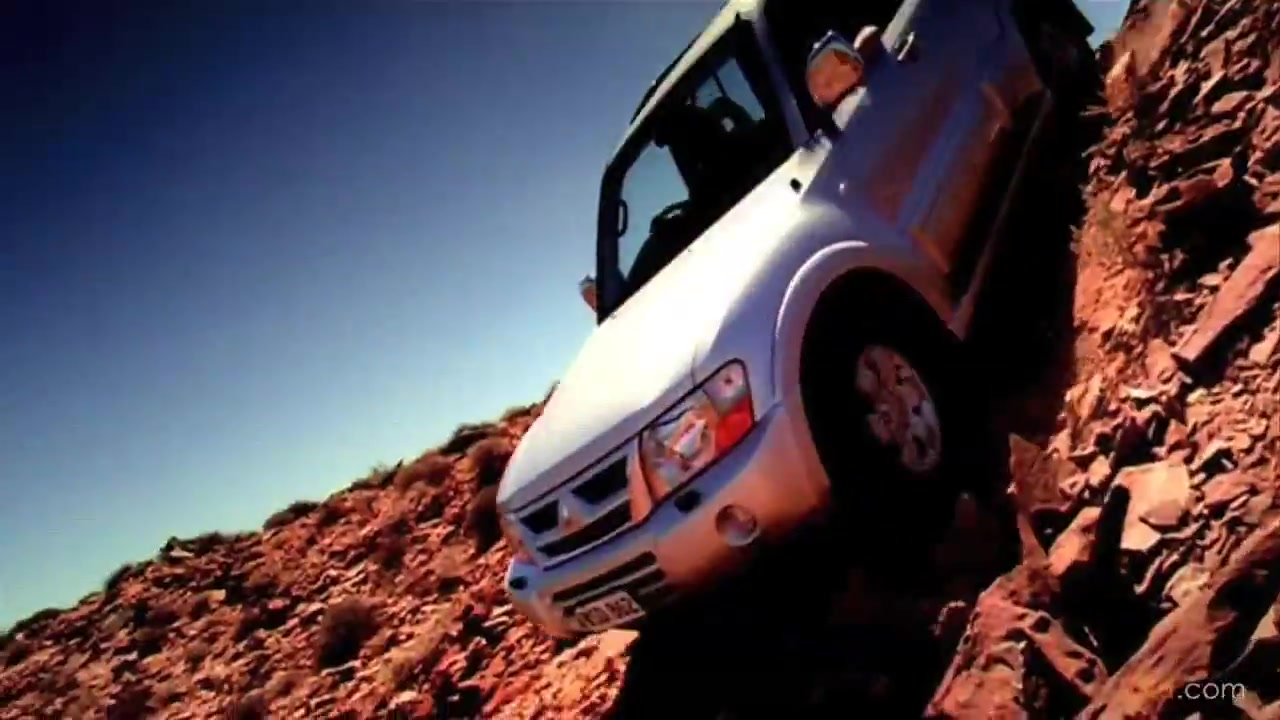car: (501, 1, 1102, 647)
